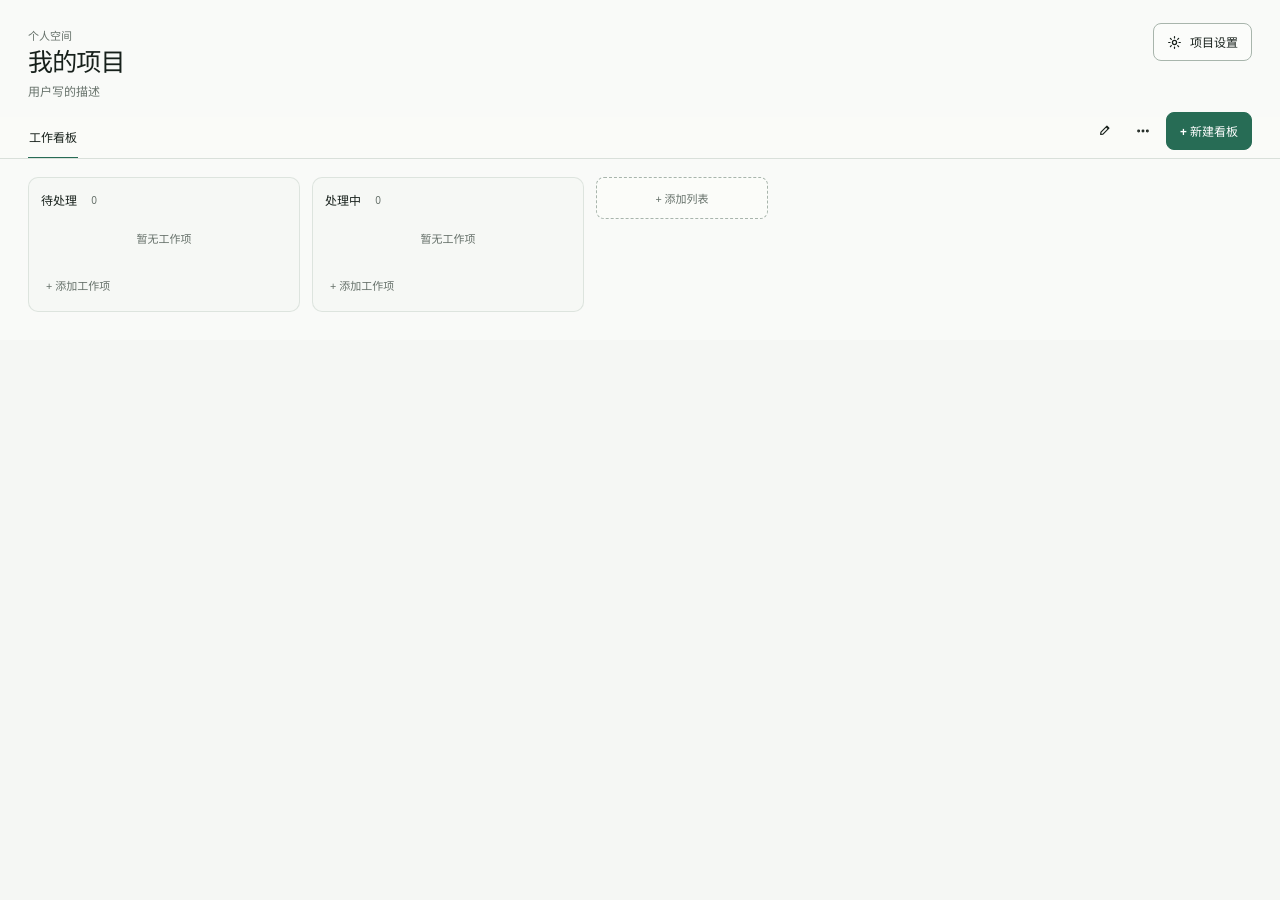
Project board deletion › prevents duplicate deletion while the command is pending
The width and height of the screenshot is (1280, 900).
Click the button named "看板操作": point(1143, 131) [1128, 116, 1158, 146]
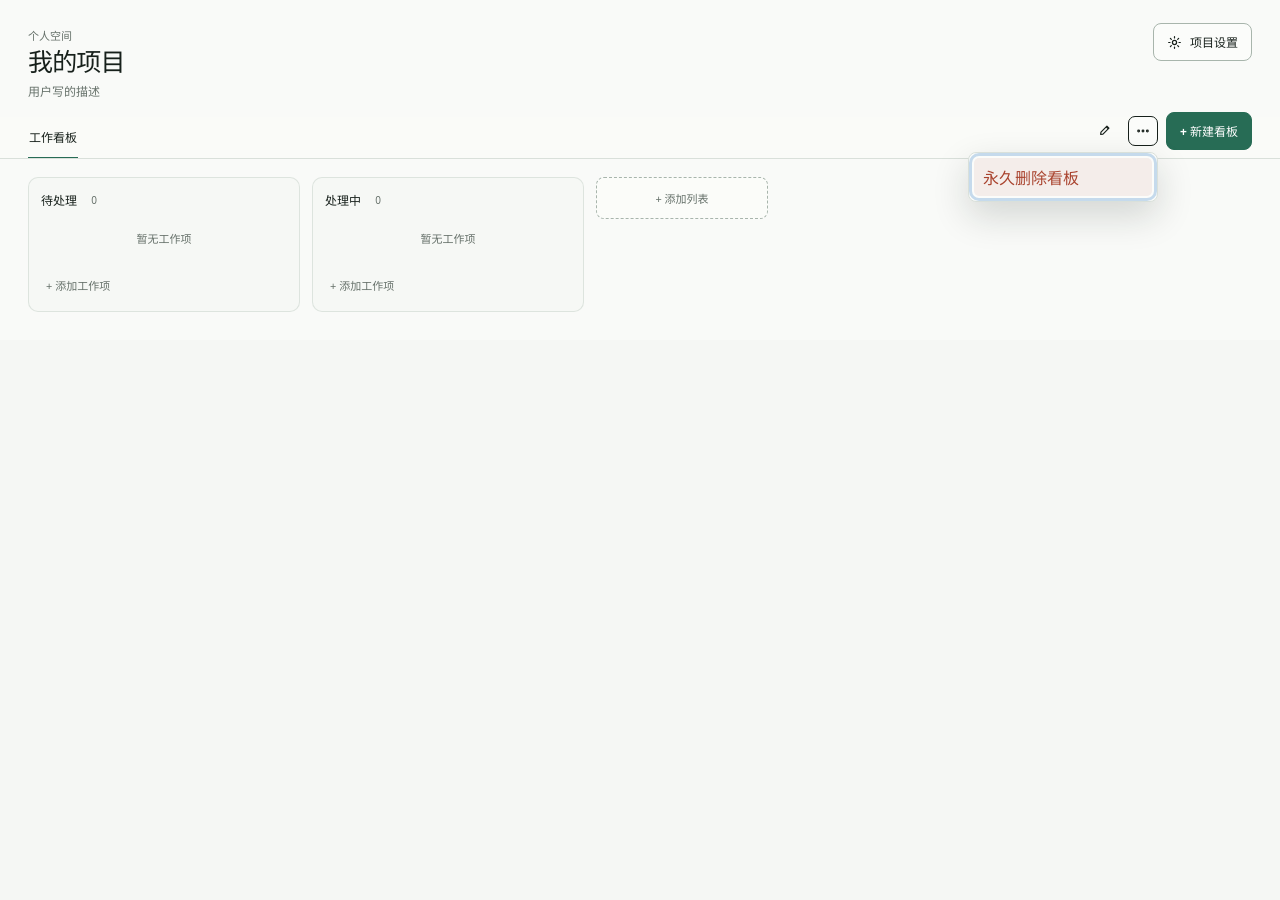
Click the menu item "永久删除看板": point(1063, 177) [974, 158, 1152, 196]
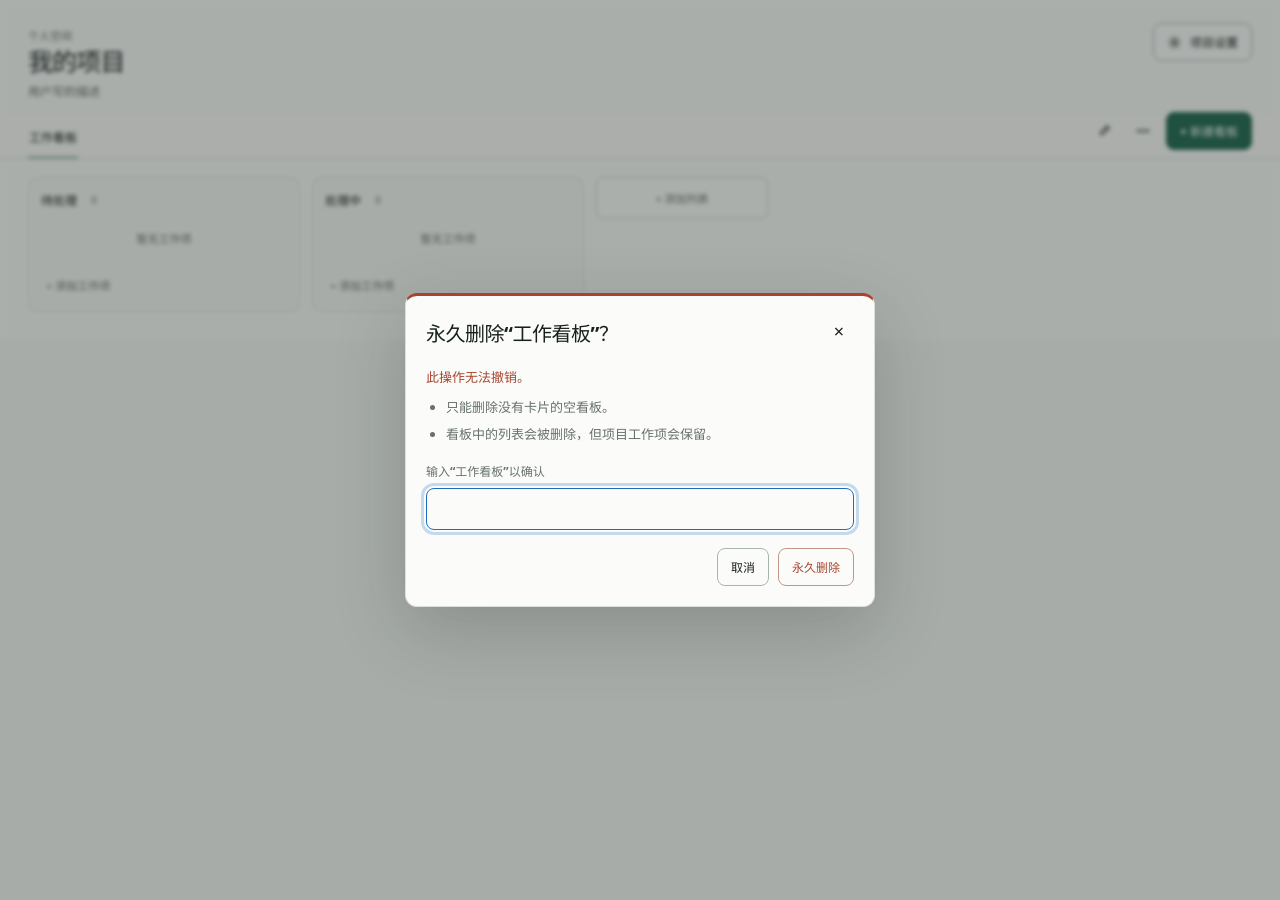
In the field labelled "输入“工作看板”以确认": point(640, 509) [426, 488, 854, 530], type "工作看板"
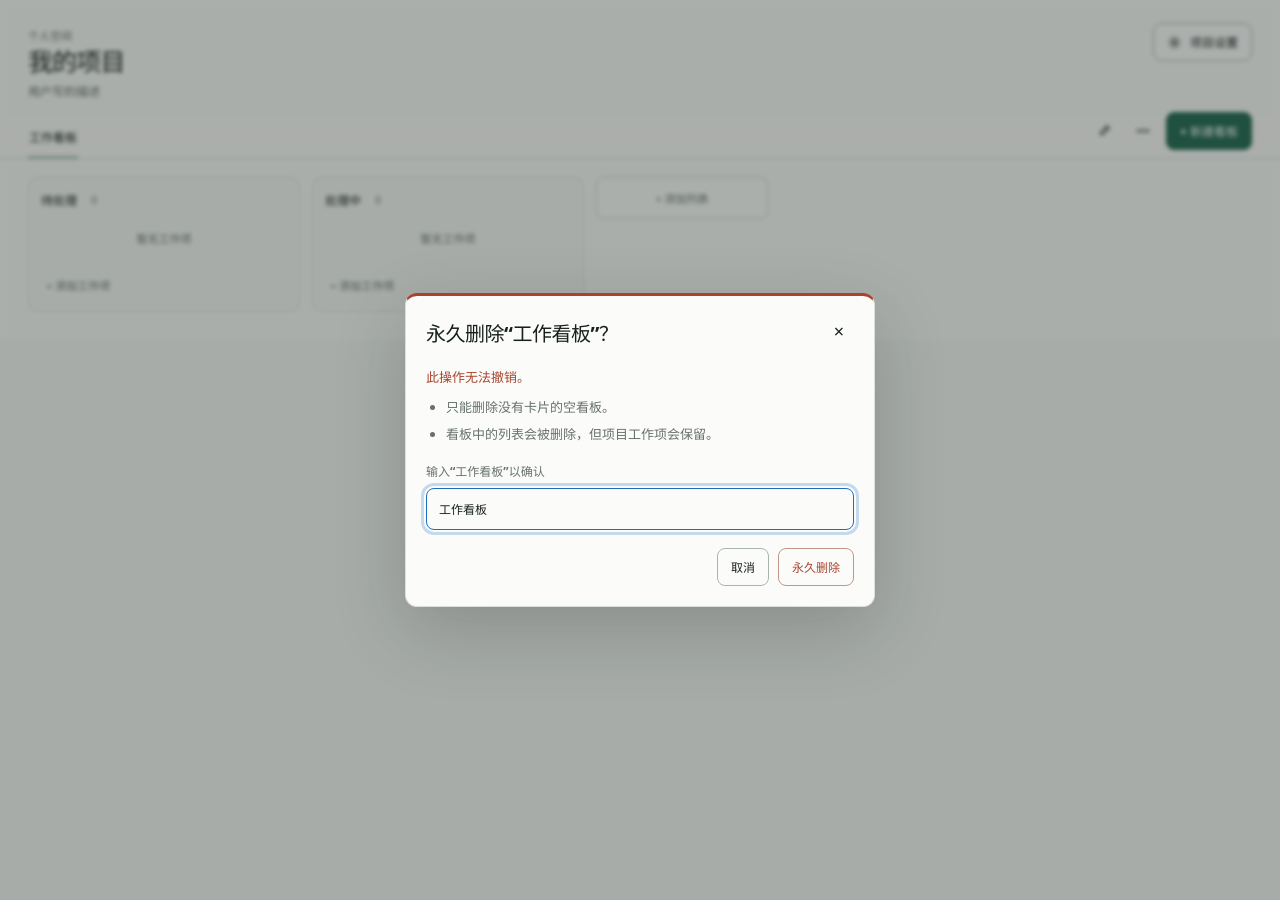
Click the button "永久删除": point(816, 567) [778, 548, 854, 586]
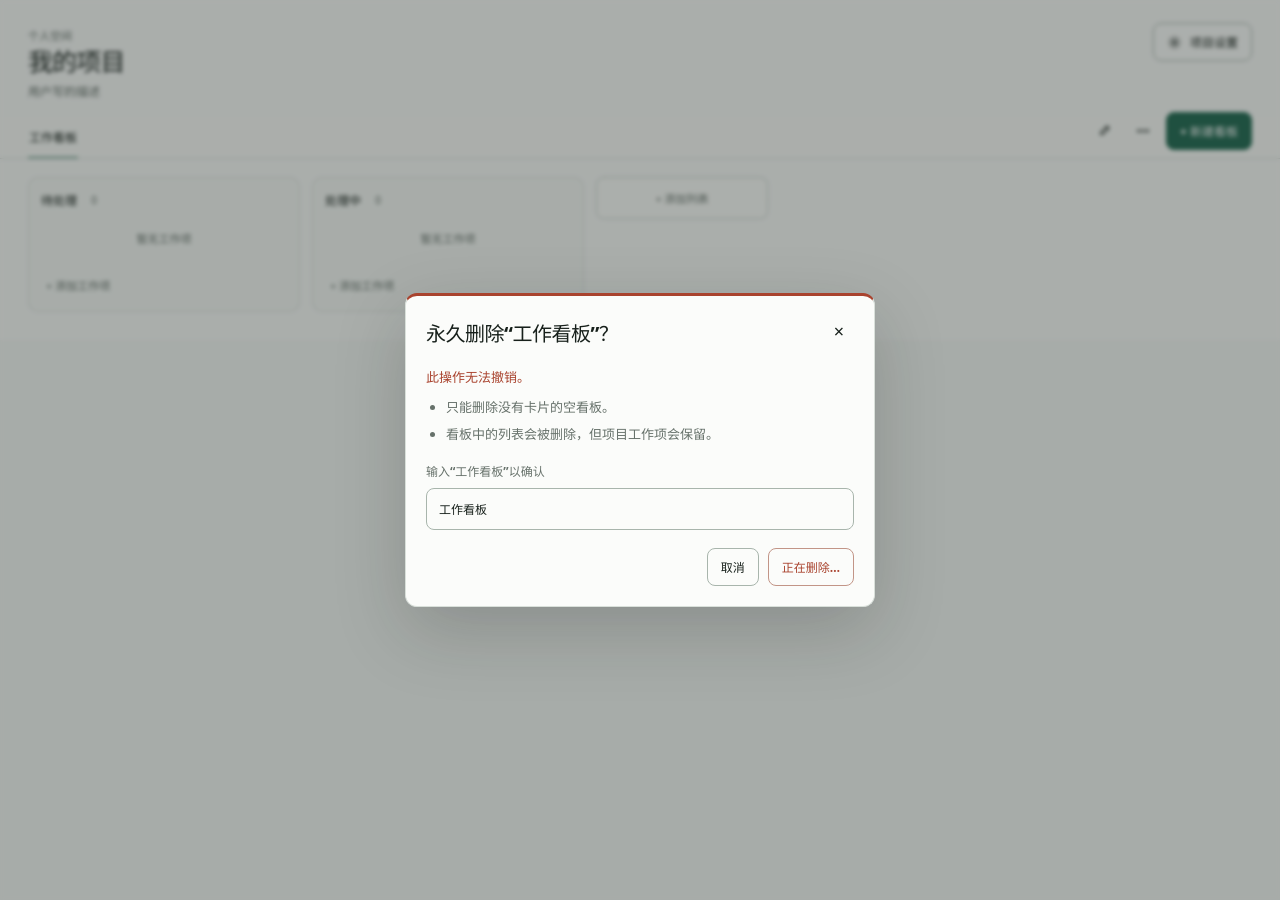
Now the button "正在删除…" is disabled
Click the button "正在删除…": point(811, 567) [768, 548, 854, 586]
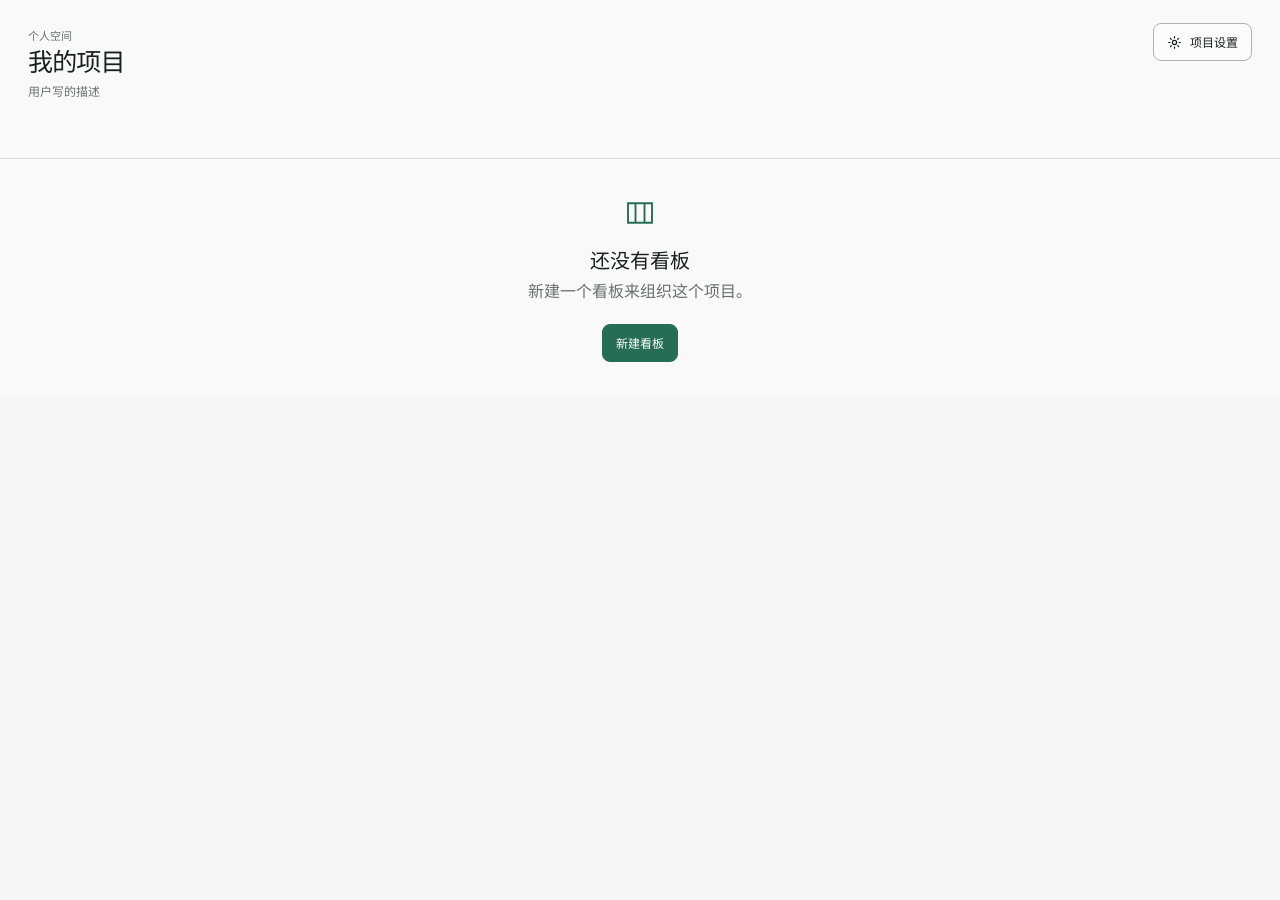
Now the heading "还没有看板" is shown, box [590, 245, 690, 274]
